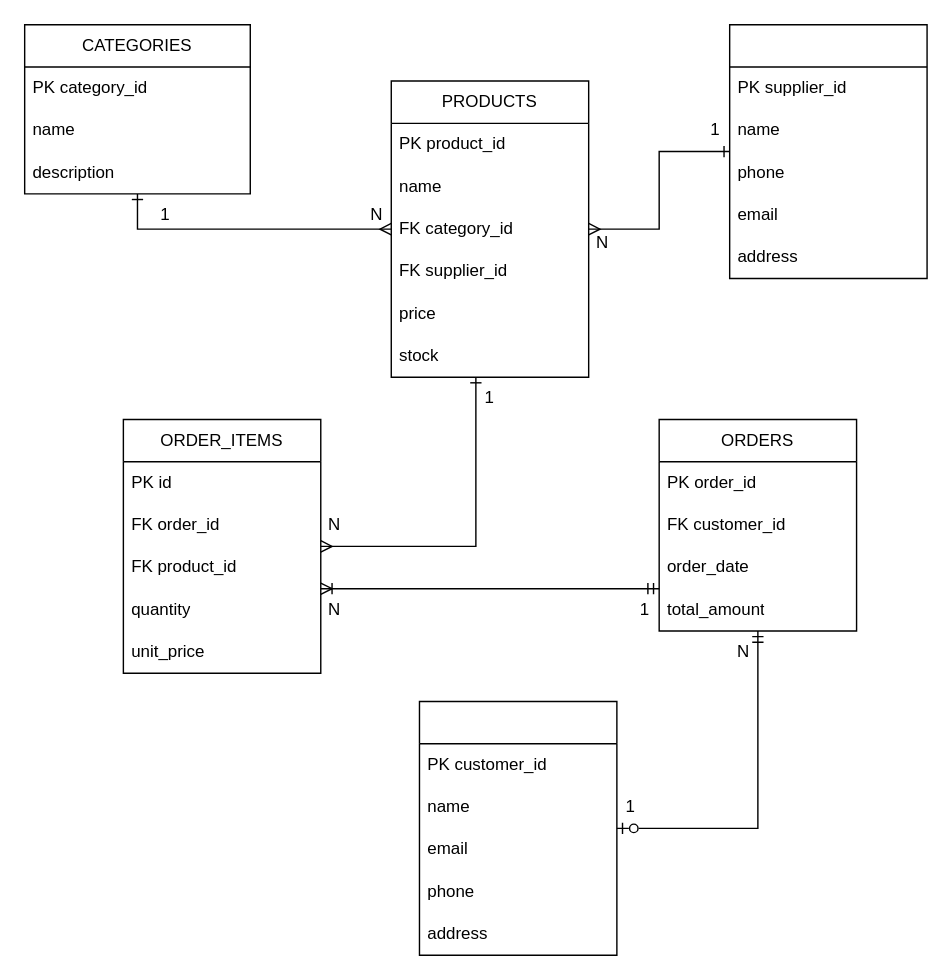
Some shapes in this 952 by 980 pixel diagram are drawn without their labels. Here are the shapes that lost their labels. From the top down, the box of each, then its label:
(728, 23, 927, 278): SUPPLIERS
(418, 700, 617, 955): CUSTOMERS
